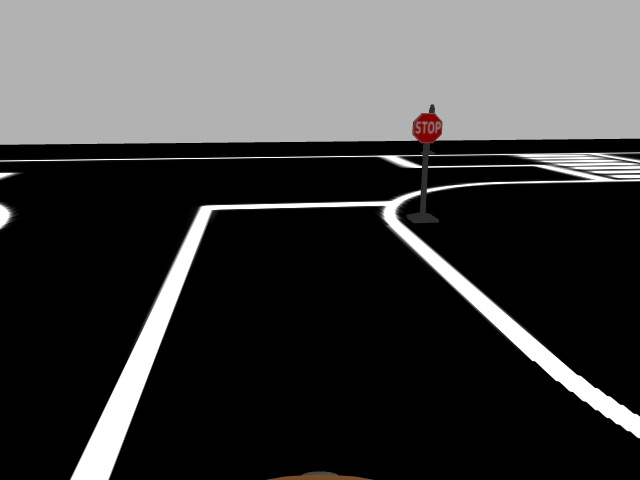stop: (409, 111, 444, 144)
